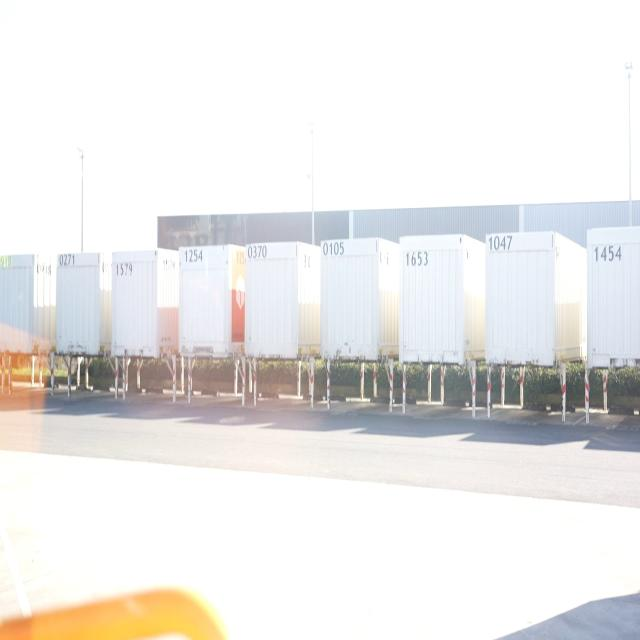Code: (591, 240, 624, 267), (402, 247, 431, 272), (320, 236, 345, 262), (244, 242, 270, 264), (488, 232, 514, 252), (111, 257, 135, 278), (182, 245, 206, 266), (58, 250, 80, 272)
